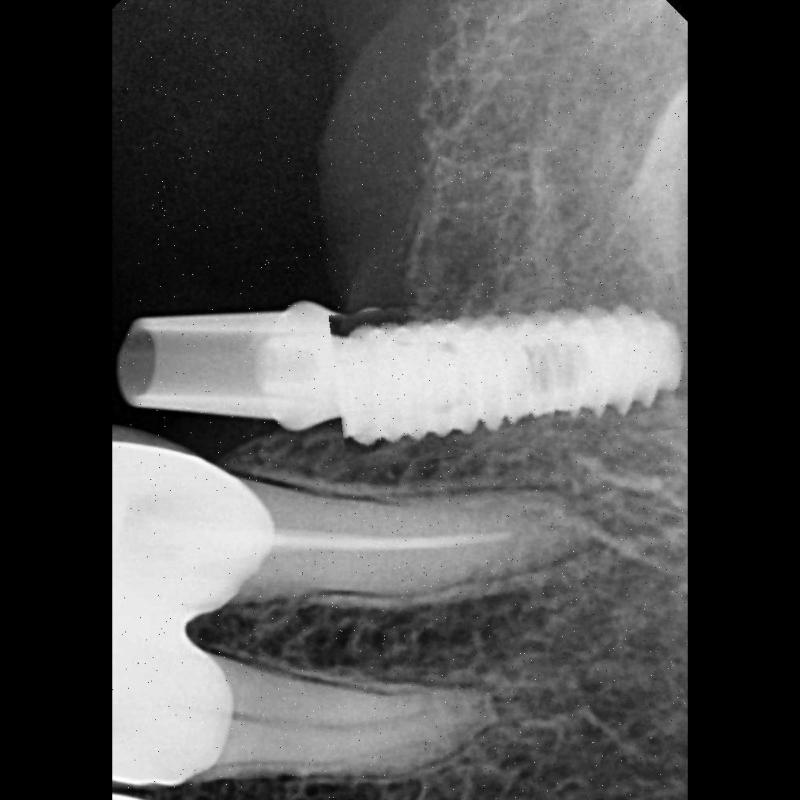osstem: (334, 284, 688, 460)
